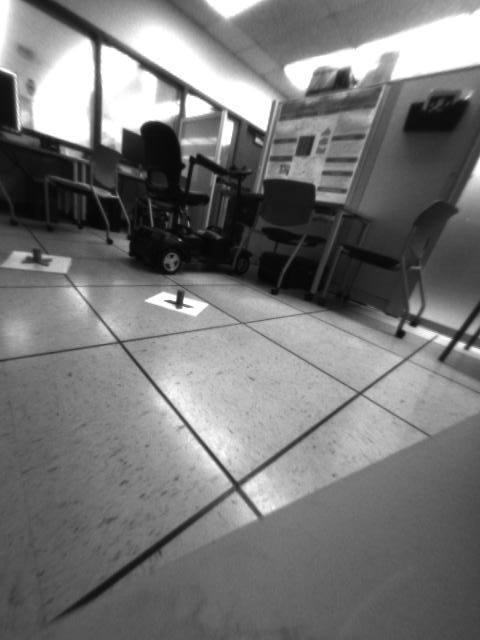X: (18, 244, 54, 272), (160, 289, 195, 310)
